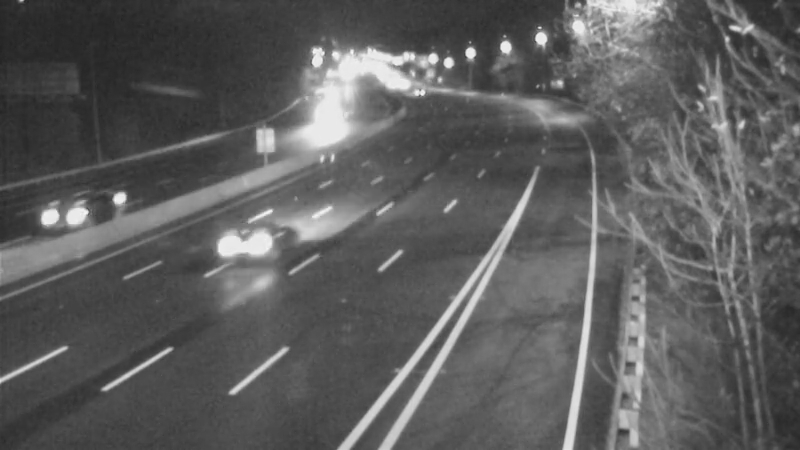vehicle: (205, 205, 285, 285), (21, 173, 101, 253), (393, 66, 443, 116), (290, 115, 340, 165)
